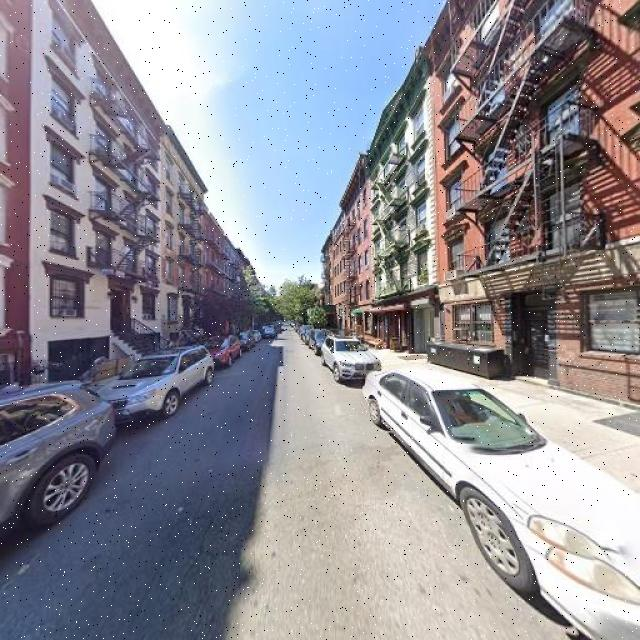Building: (437, 1, 640, 409), (33, 1, 158, 383), (373, 38, 434, 357), (1, 1, 25, 393)
